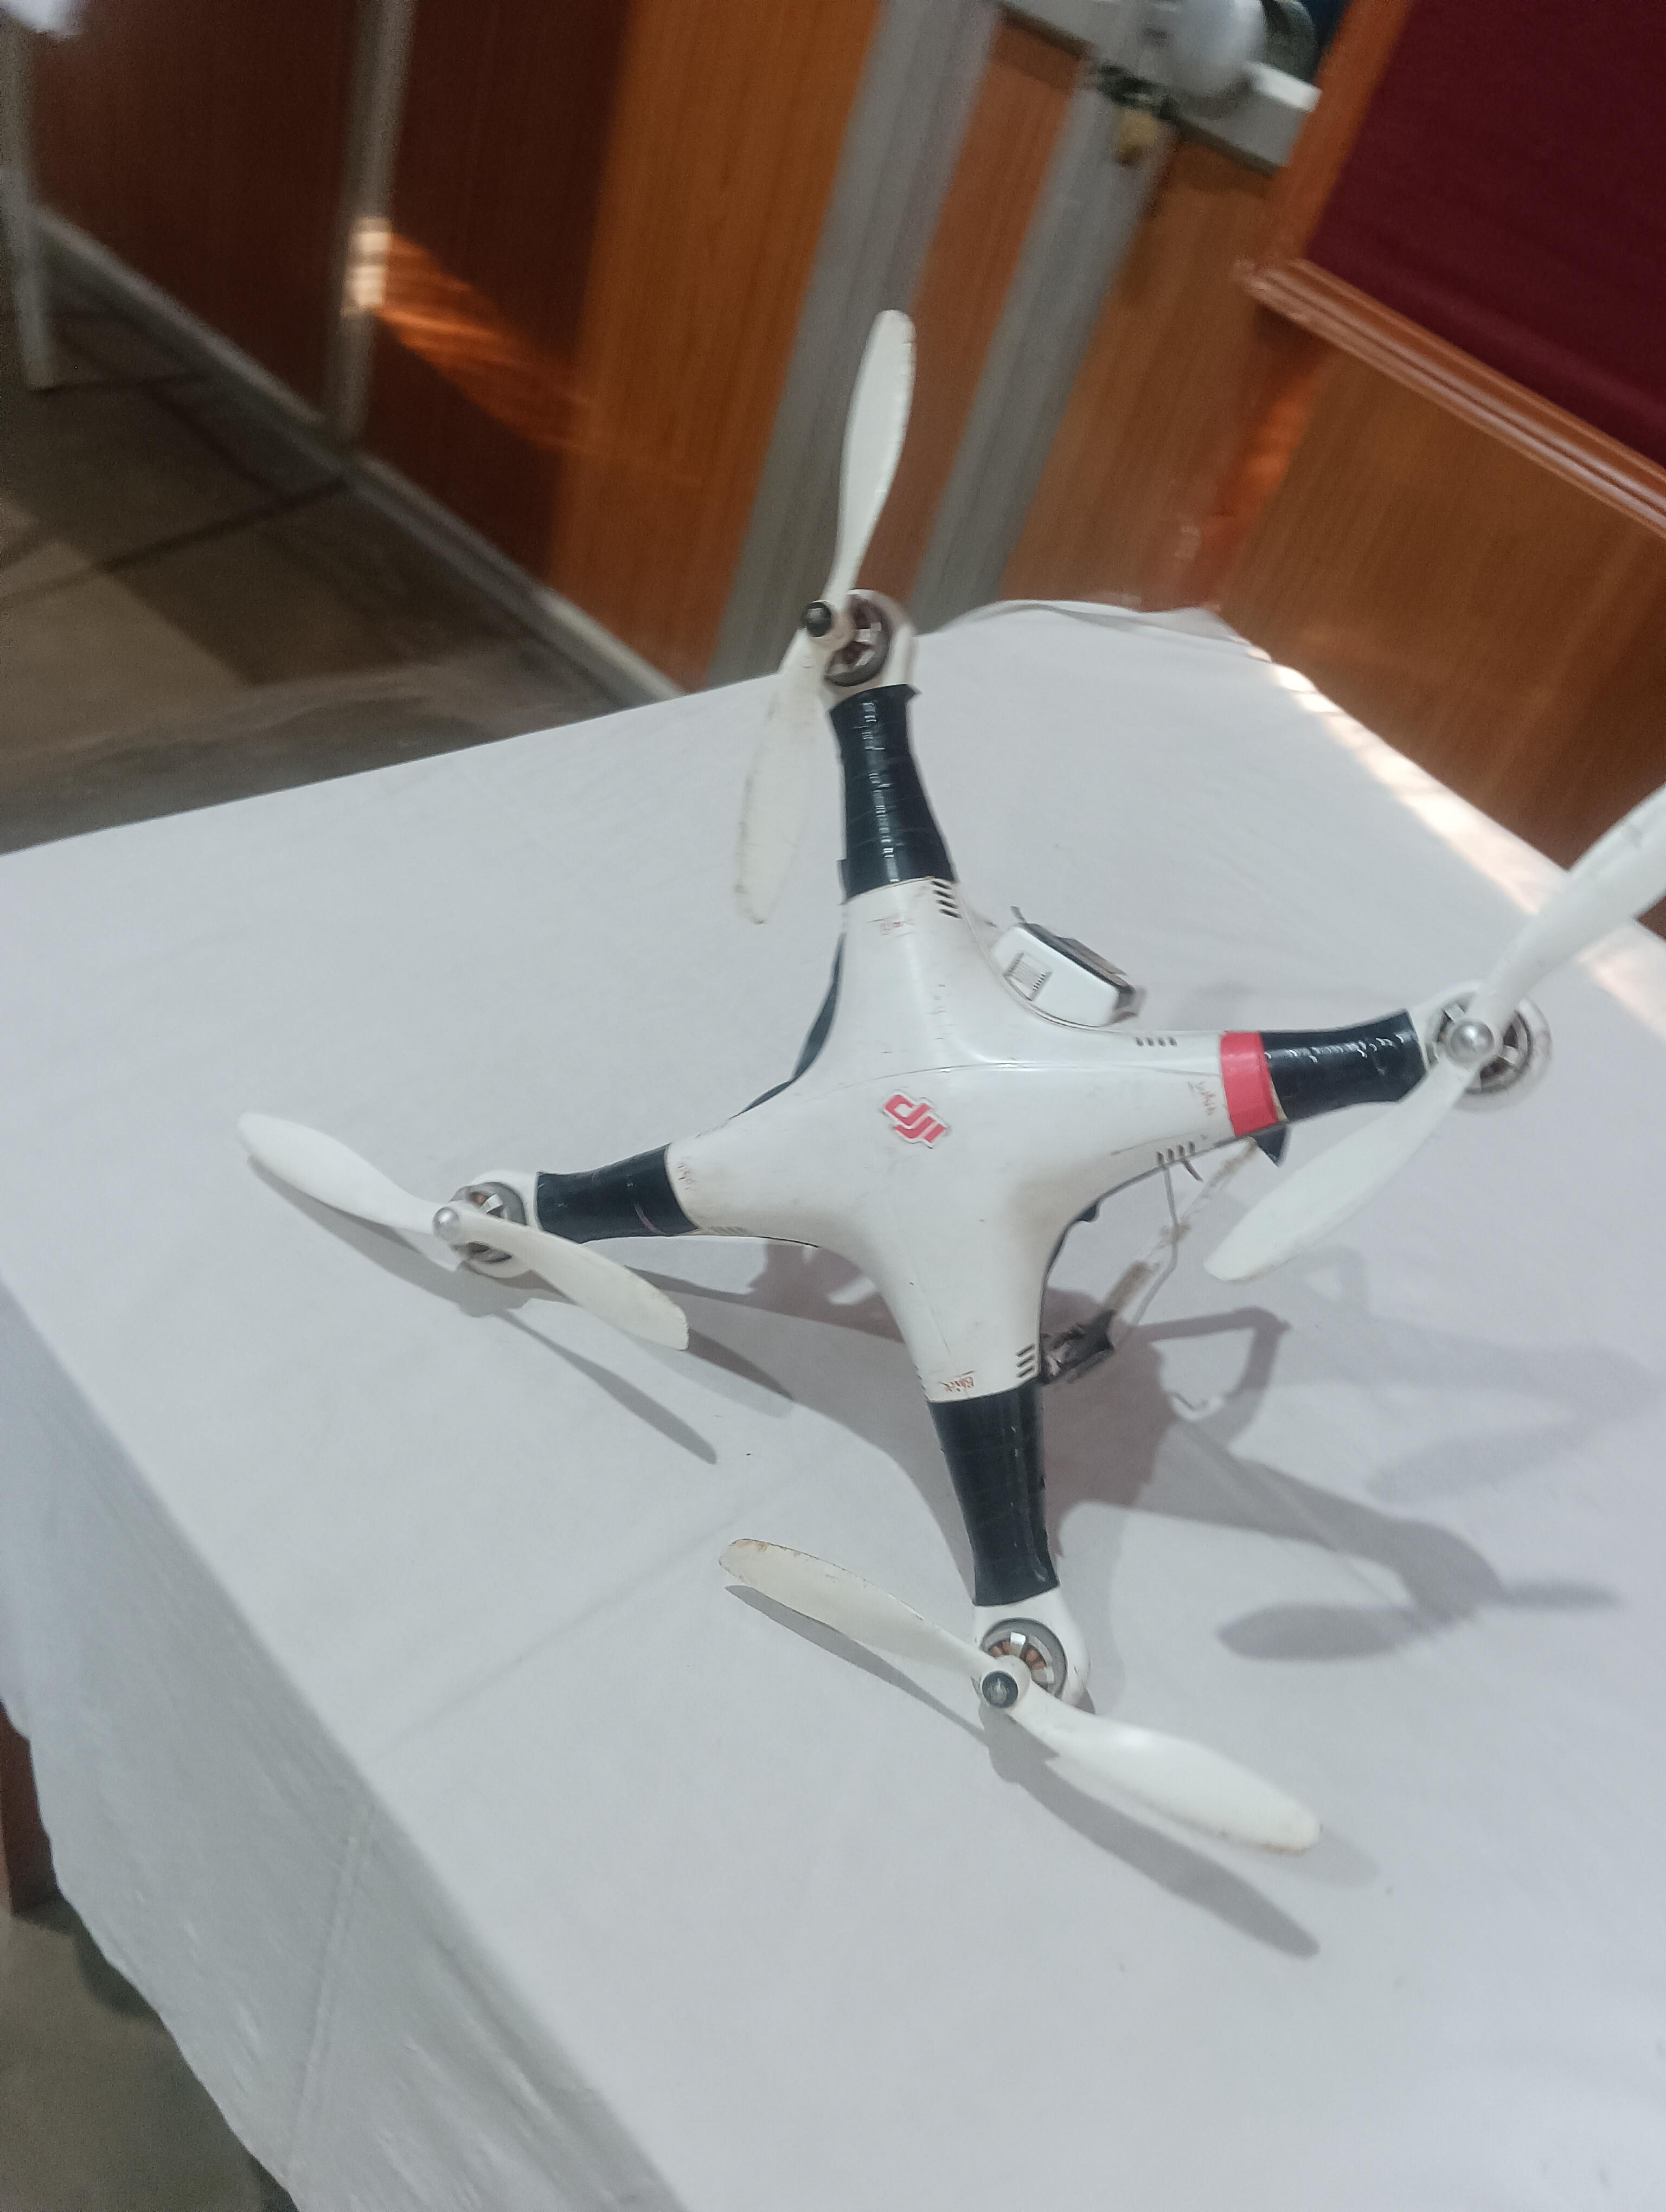drone: (231, 303, 1666, 1868)
